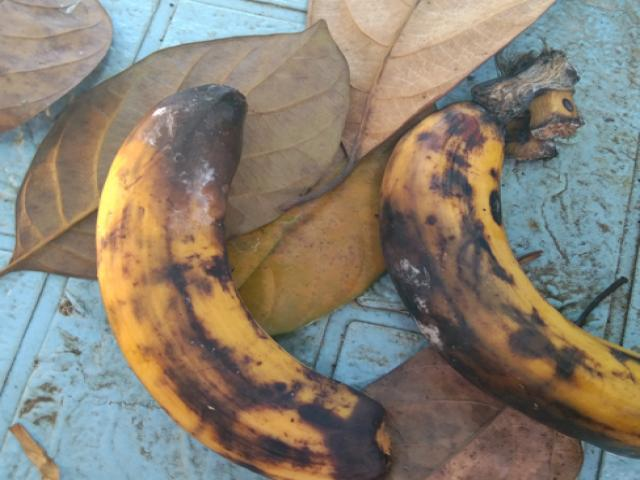rotten: (91, 76, 395, 479), (358, 56, 639, 458)
